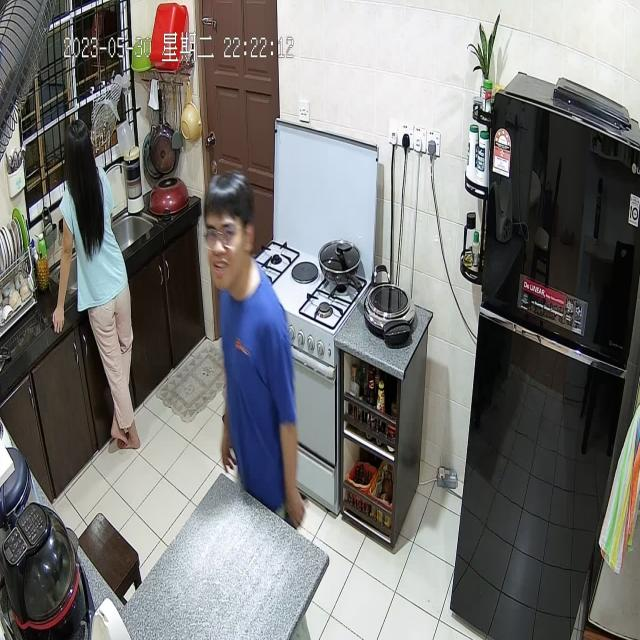Head: (206, 169, 253, 282), (64, 117, 90, 162)
